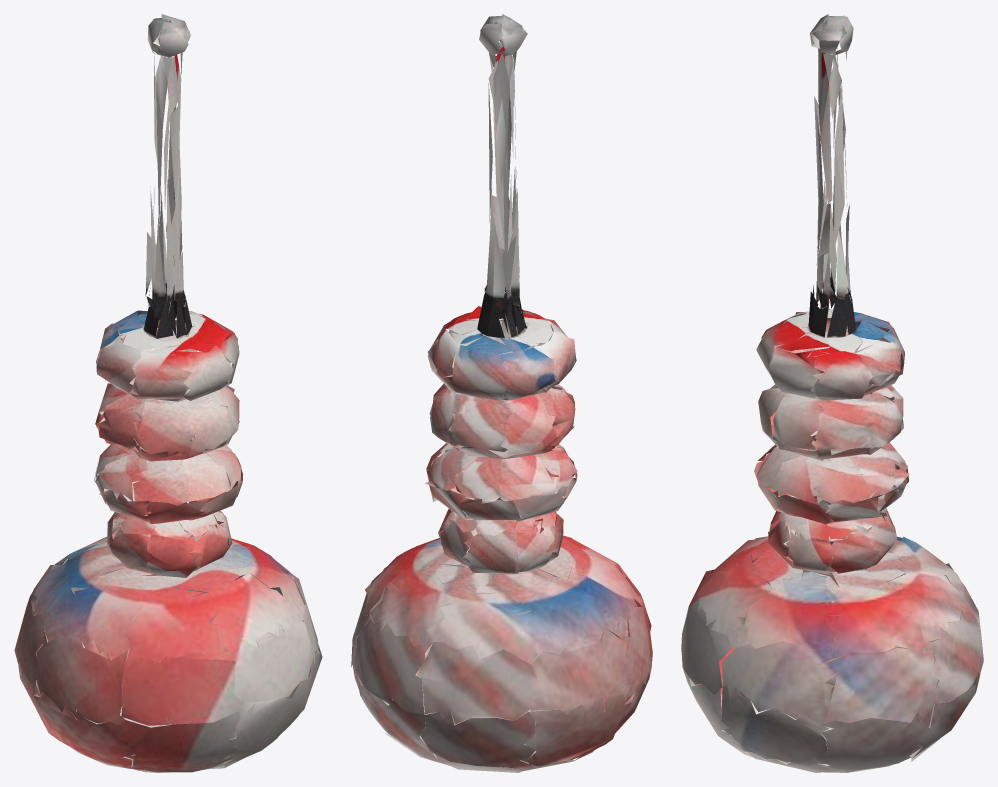
The model's file is pin.glb.
3 views of the same model, side by side, from view 1: azimuth 30°, elevation 25°; view 2: azimuth 150°, elevation 25°; view 3: azimuth 270°, elevation 25° (orthographic).
Visible parts, largest first — view 1: Mesh_0; view 2: Mesh_0; view 3: Mesh_0.
Boxes of the visible parts, <box> form: Mesh_0: <box>14,14,322,772</box>; Mesh_0: <box>351,14,652,772</box>; Mesh_0: <box>681,14,983,772</box>.
Size of the model in its own units: 0.1886 by 0.5 by 0.1883.
Materials: 1 (1 with a texture image).
